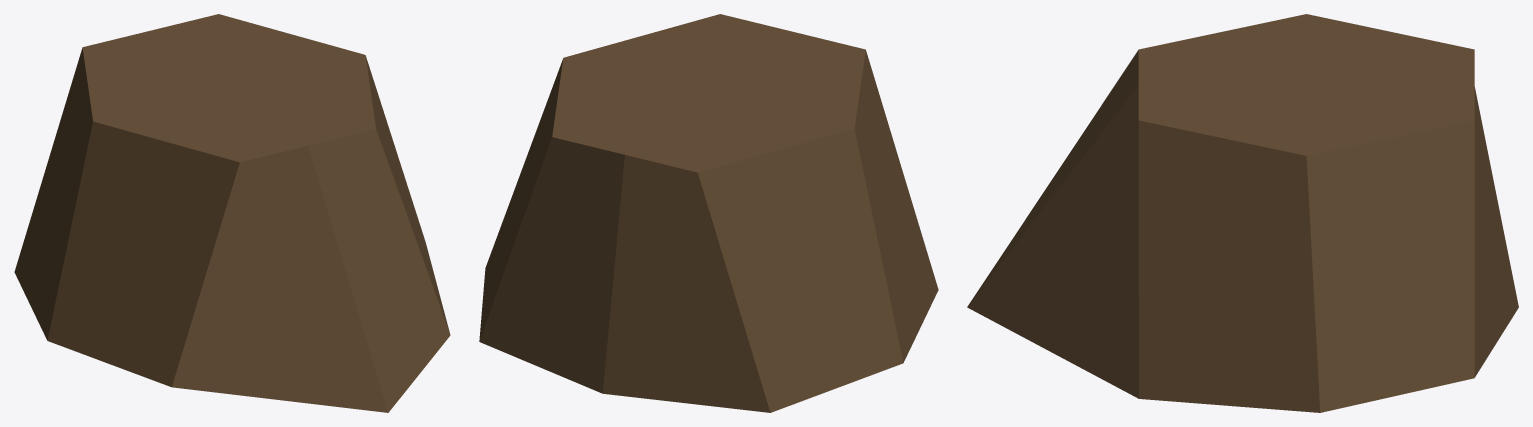
File: gros_tronc_universel.fbx
3 renders of one model, left to right at view 1: azimuth 30°, elevation 25°; view 2: azimuth 150°, elevation 25°; view 3: azimuth 270°, elevation 25°, orthographic. The views are drawn at different scales.
Visible parts, largest first — view 1: Cube; view 2: Cube; view 3: Cube.
Part boxes in pixels (x1=…): Cube: x1=14, y1=14, x2=450, y2=412; Cube: x1=479, y1=14, x2=938, y2=412; Cube: x1=967, y1=14, x2=1518, y2=412.
Bounding box in the file's own units: 185 × 103 × 216.
